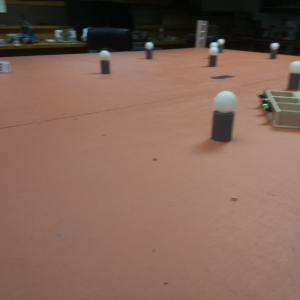blockF: (1, 61, 10, 74)
corner: (195, 20, 207, 49)
obstacle: (209, 91, 235, 145), (288, 60, 300, 90), (98, 50, 111, 73), (270, 41, 279, 60), (208, 49, 218, 66), (145, 41, 153, 60), (218, 38, 225, 53), (211, 42, 217, 49)
side: (256, 90, 280, 126)
start: (210, 75, 233, 82)
